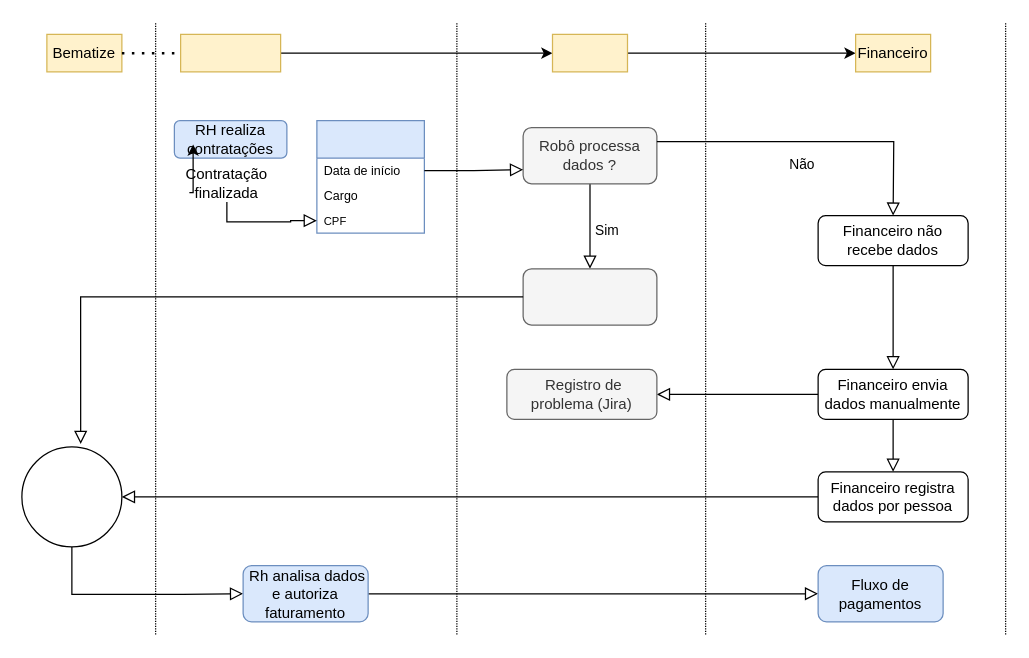
The diagram is 1029 pixels wide and 658 high, and some of its shapes have lost their labels. The box of each missing label's shape, as (x1, y1, x2, y2) in pixels:
Email enviado para corretor: (522, 268, 657, 325)
Faturamento: (21, 446, 122, 547)
Gente: (179, 33, 281, 72)
No sistema Qulture: (316, 119, 424, 233)
Tech: (551, 33, 628, 72)
